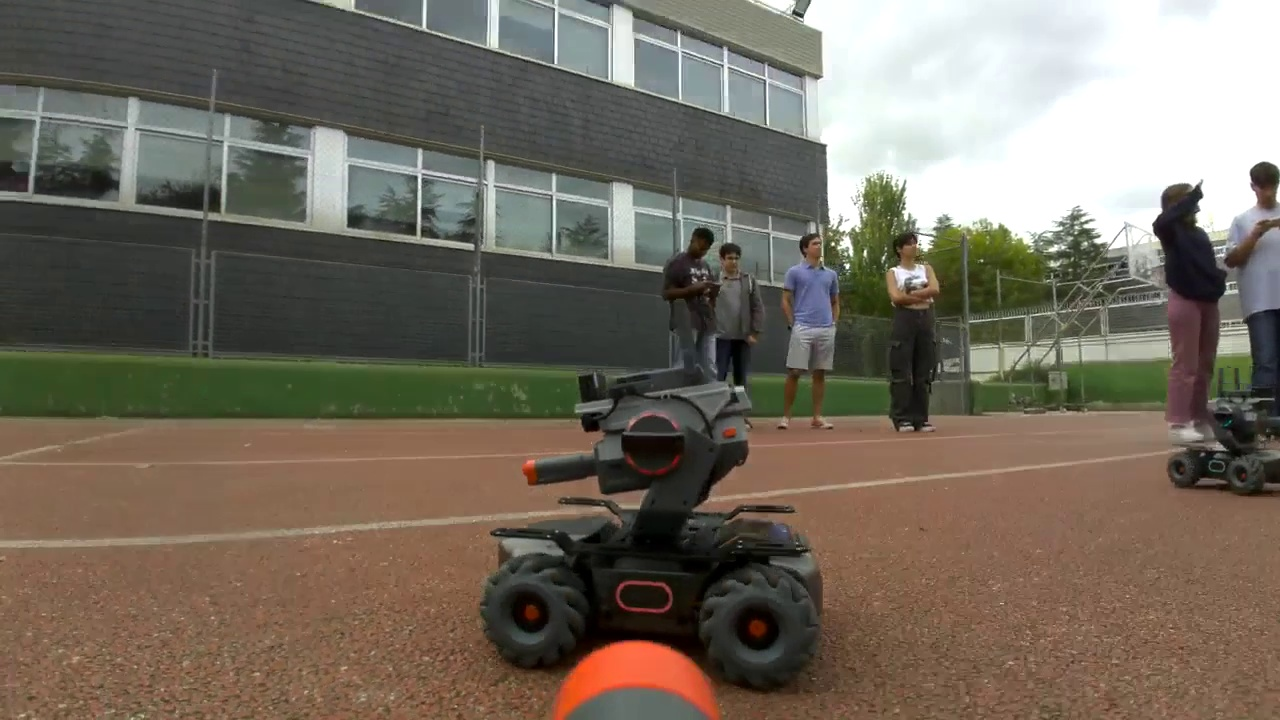robot: (481, 366, 822, 689), (1171, 392, 1280, 492)
